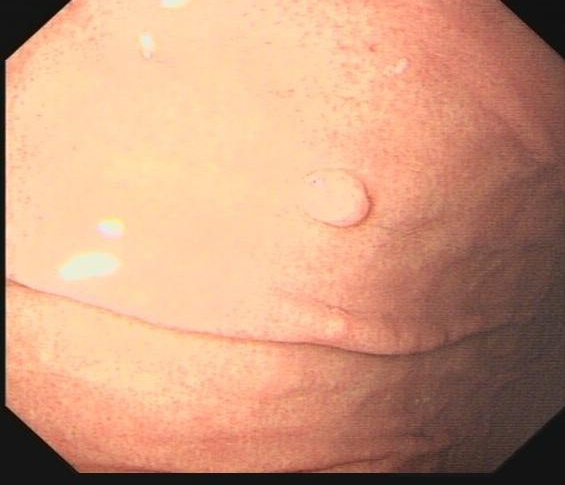Polyp: (294, 167, 376, 232)
